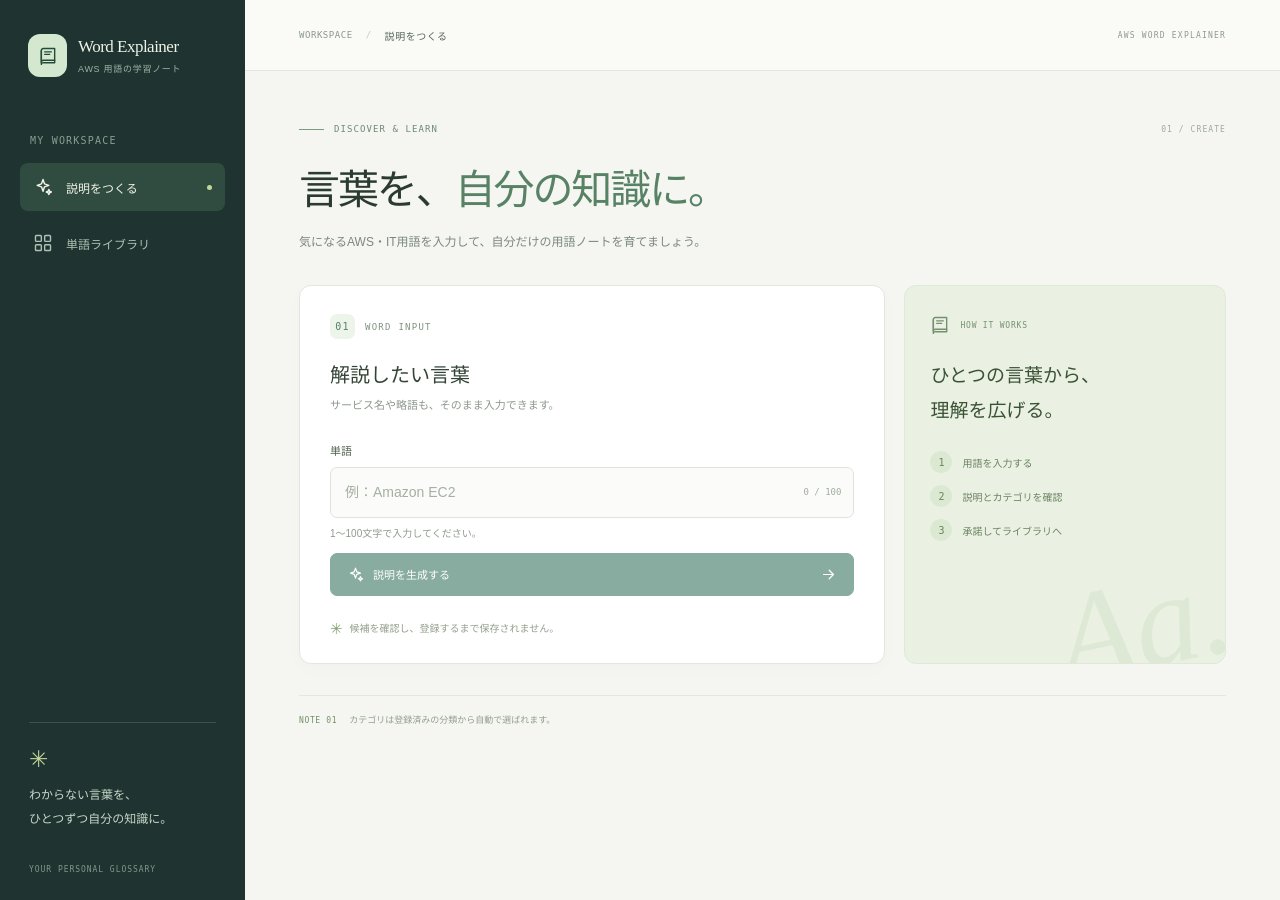
Test: 説明候補の承諾と保存 › 生成とキャンセルでは保存APIを呼ばない
The image size is (1280, 900).
Type "  EC2  " into the field labelled "単語". click: (592, 492)
box: [330,467,854,518]
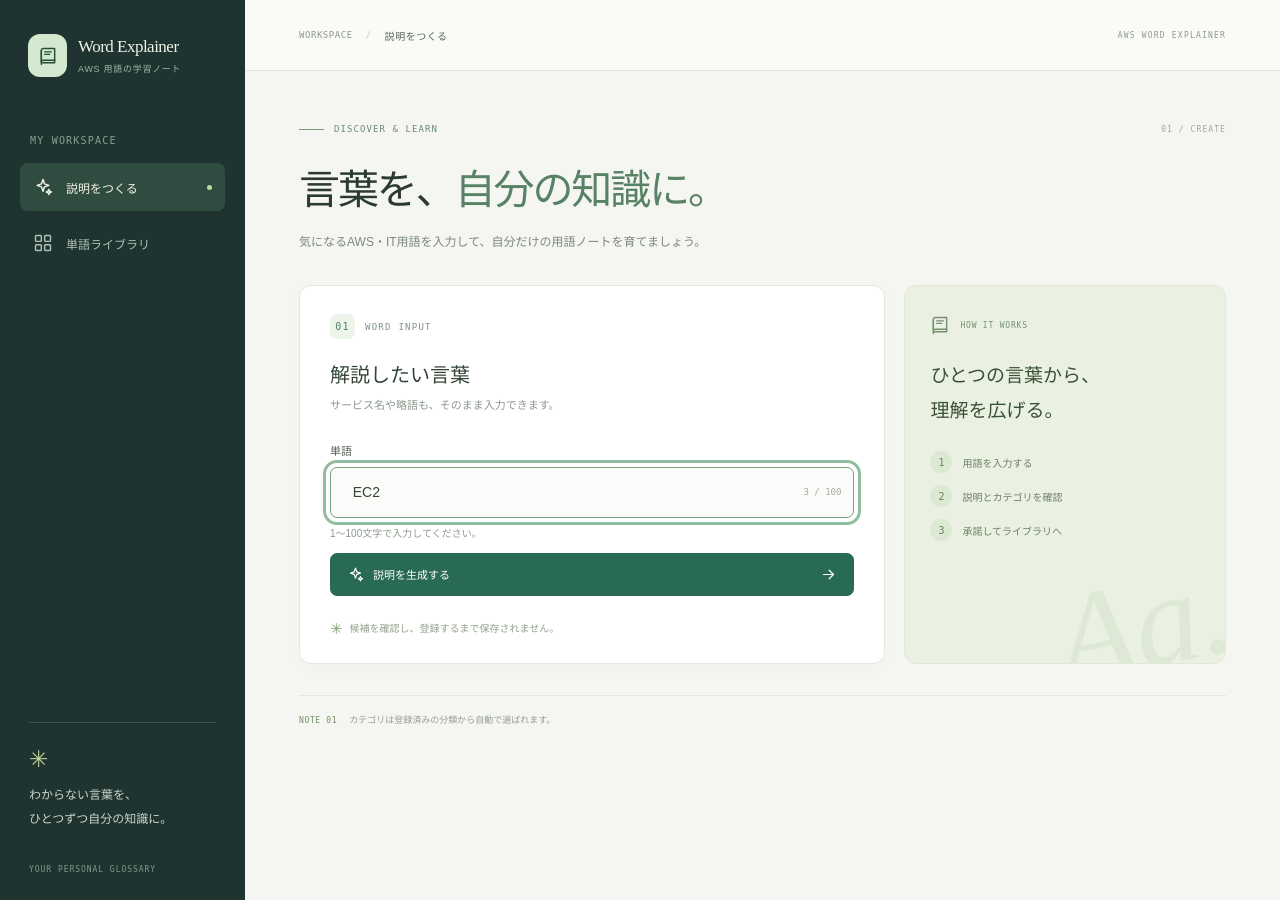
Click the button "説明を生成する". click: (412, 575)
box: [330,553,854,596]
(page scrolled)
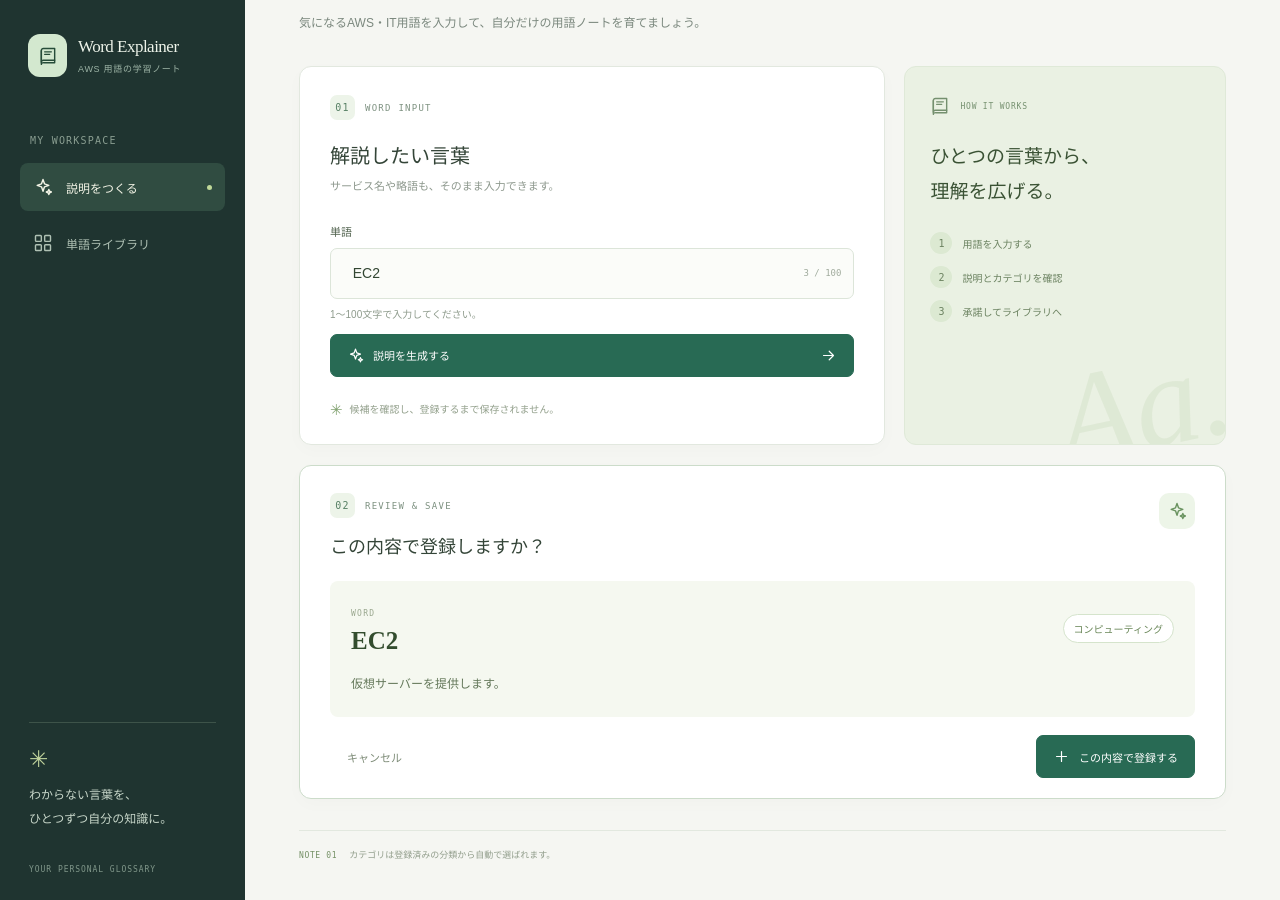
Now the heading "この内容で登録しますか？" is shown, box [330,532,546,558]
Click the button "キャンセル". click: (374, 757)
box: [330,735,419,778]
(page scrolled)
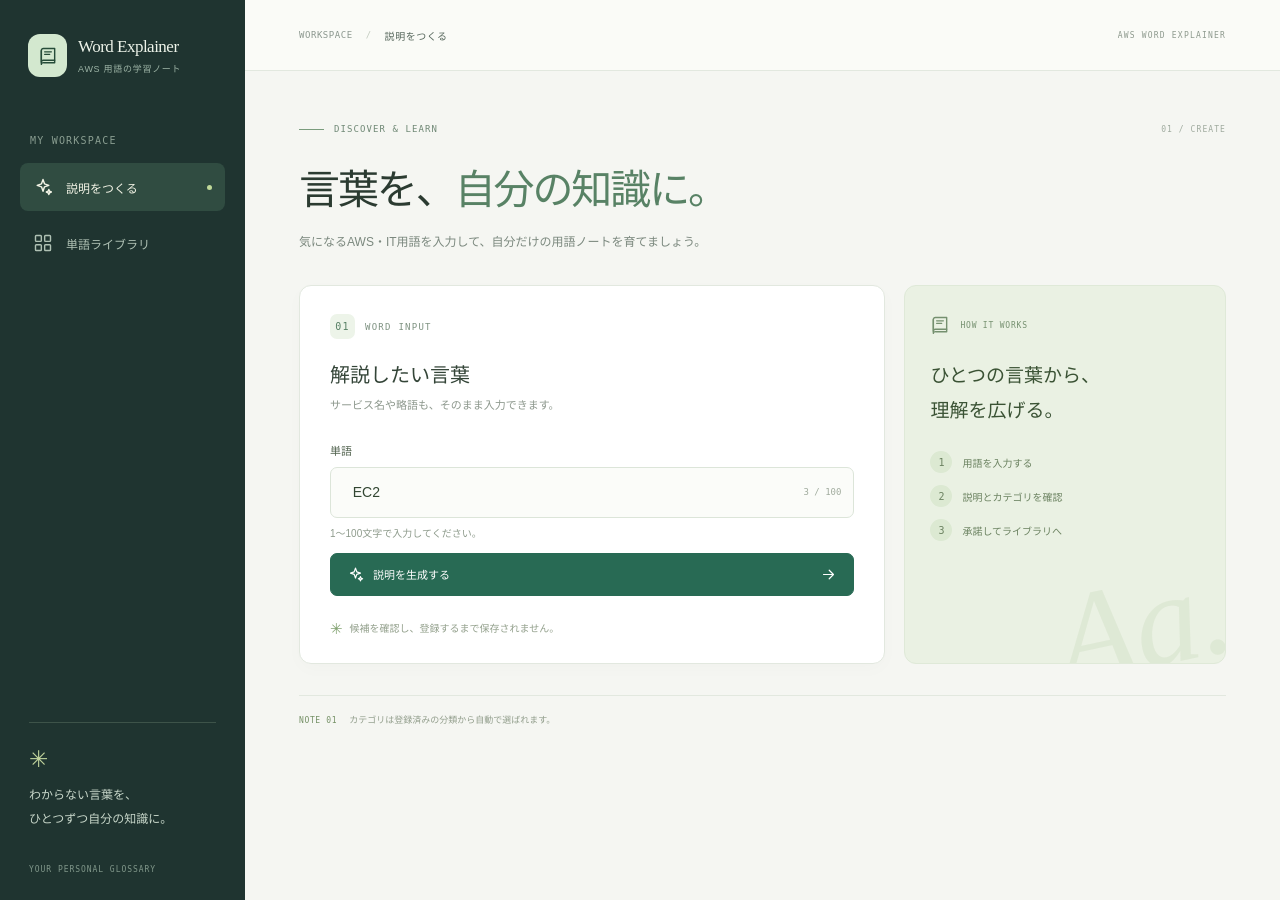
Now the button "この内容で登録する" is gone
